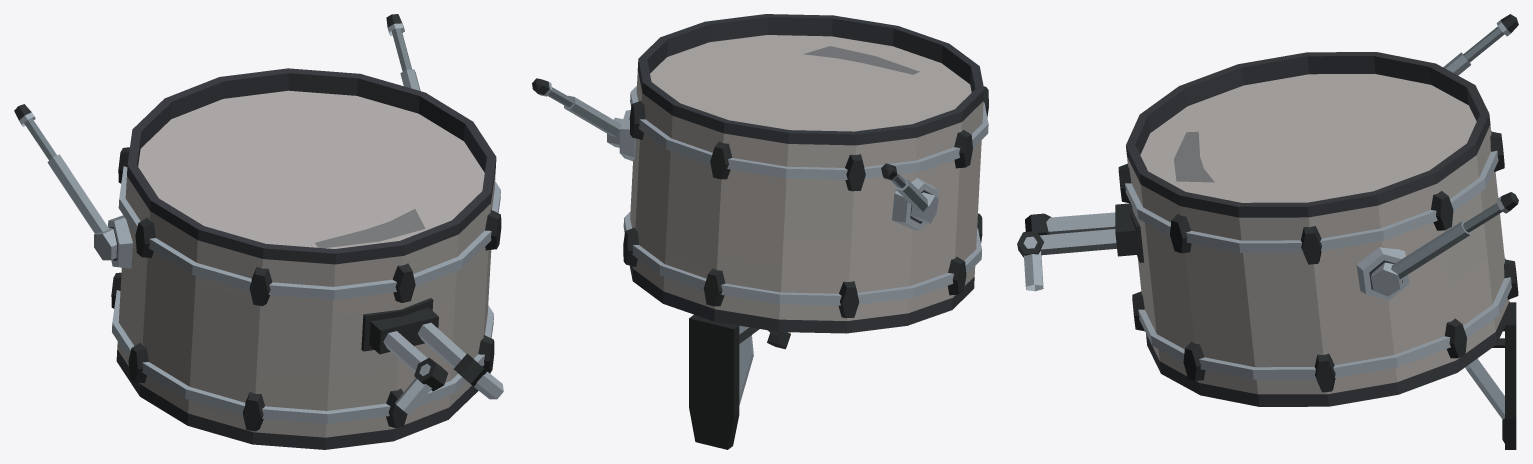
Rendered from SM_Prop_Music_Drums_Kit_01_Seat_01_Part_01.196.obj.
3 views of the same model, side by side, from view 1: azimuth 30°, elevation 25°; view 2: azimuth 150°, elevation 25°; view 3: azimuth 270°, elevation 25° (orthographic). The views are drawn at different scales.
Visible parts, largest first — view 1: SM_Prop_Music_Drums_Kit_01_Seat_01_Part_01.196_0; view 2: SM_Prop_Music_Drums_Kit_01_Seat_01_Part_01.196_0; view 3: SM_Prop_Music_Drums_Kit_01_Seat_01_Part_01.196_0.
Part boxes in pixels (box(x1,y1,x2,y2)): SM_Prop_Music_Drums_Kit_01_Seat_01_Part_01.196_0: box(14, 14, 503, 449); SM_Prop_Music_Drums_Kit_01_Seat_01_Part_01.196_0: box(532, 14, 988, 449); SM_Prop_Music_Drums_Kit_01_Seat_01_Part_01.196_0: box(1017, 14, 1518, 449).
Bounding box in the file's own units: 93.81 × 80.07 × 108.
